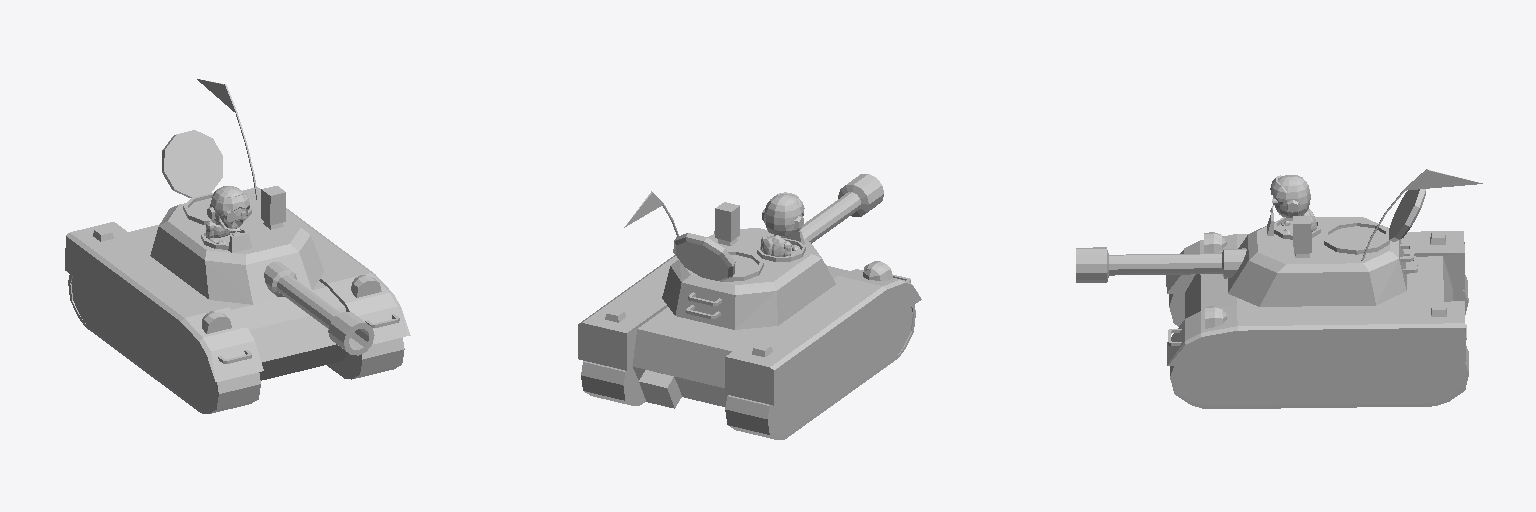
The model's file is Bianky Tanker.obj.
3 renders of one model, left to right at view 1: azimuth 30°, elevation 25°; view 2: azimuth 150°, elevation 25°; view 3: azimuth 270°, elevation 25°, orthographic.
Visible parts, largest first — view 1: Inst3D28_RefRep.314, Inst3D30_RefRep.318, Inst3D29_RefRep.316; view 2: Inst3D28_RefRep.314, Inst3D30_RefRep.318, Inst3D29_RefRep.316; view 3: Inst3D28_RefRep.314, Inst3D29_RefRep.316, Inst3D30_RefRep.318.
Boxes of the visible parts, box(x1,y1,x2,y2) form: Inst3D28_RefRep.314: box(65, 79, 410, 410); Inst3D30_RefRep.318: box(68, 274, 404, 413); Inst3D29_RefRep.316: box(206, 186, 249, 243); Inst3D28_RefRep.314: box(578, 174, 921, 435); Inst3D30_RefRep.318: box(581, 305, 915, 439); Inst3D29_RefRep.316: box(761, 192, 804, 256); Inst3D28_RefRep.314: box(1076, 169, 1482, 405); Inst3D29_RefRep.316: box(1270, 175, 1316, 233); Inst3D30_RefRep.318: box(1169, 275, 1468, 408).
Size of the model in its own units: 3.09 by 3.24 by 5.56.